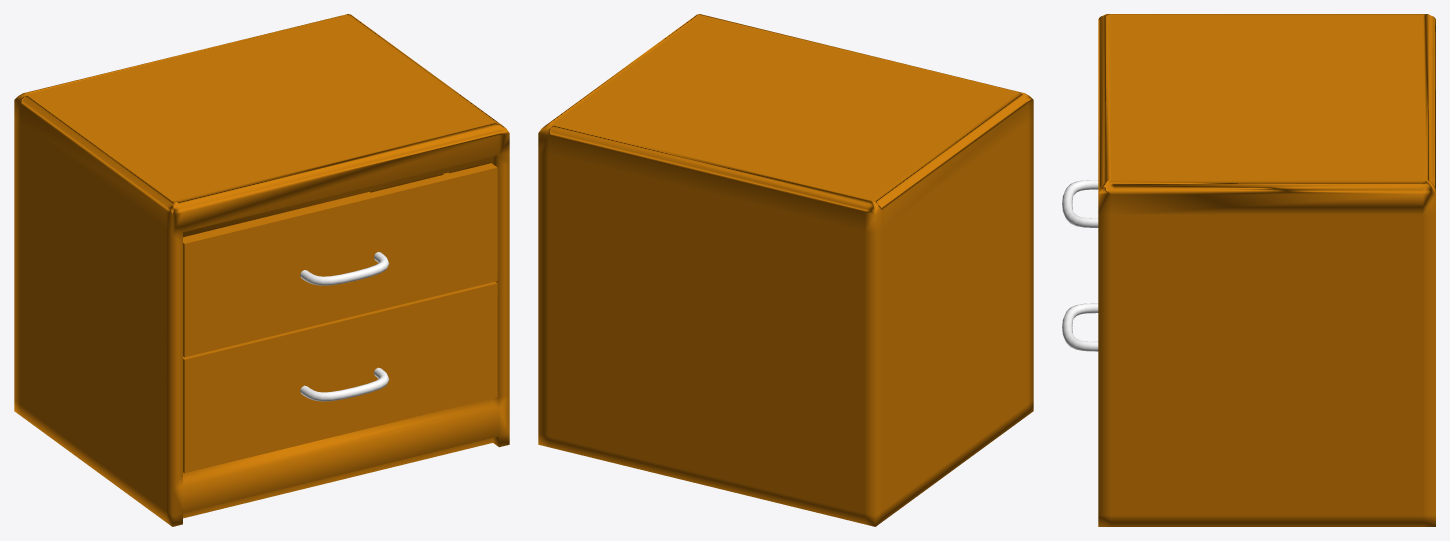
Rendered from Bedside.glb.
The picture shows the model from 3 angles, left to right: view 1: azimuth 30°, elevation 25°; view 2: azimuth 150°, elevation 25°; view 3: azimuth 270°, elevation 25°; orthographic projection. The views are drawn at different scales.
Visible parts, largest first — view 1: Cube.007, Cube.006, Cube.008; view 2: Cube.007; view 3: Cube.007, Cube.008, Cube.006.
Boxes of the visible parts, x1=… form: Cube.007: x1=14, y1=14, x2=509, y2=526; Cube.006: x1=183, y1=163, x2=497, y2=357; Cube.008: x1=183, y1=282, x2=497, y2=473; Cube.007: x1=538, y1=14, x2=1033, y2=526; Cube.007: x1=1098, y1=14, x2=1435, y2=526; Cube.008: x1=1062, y1=303, x2=1098, y2=351; Cube.006: x1=1062, y1=180, x2=1098, y2=227.
Size of the model in its own units: 6.4 by 5.8 by 5.76.
